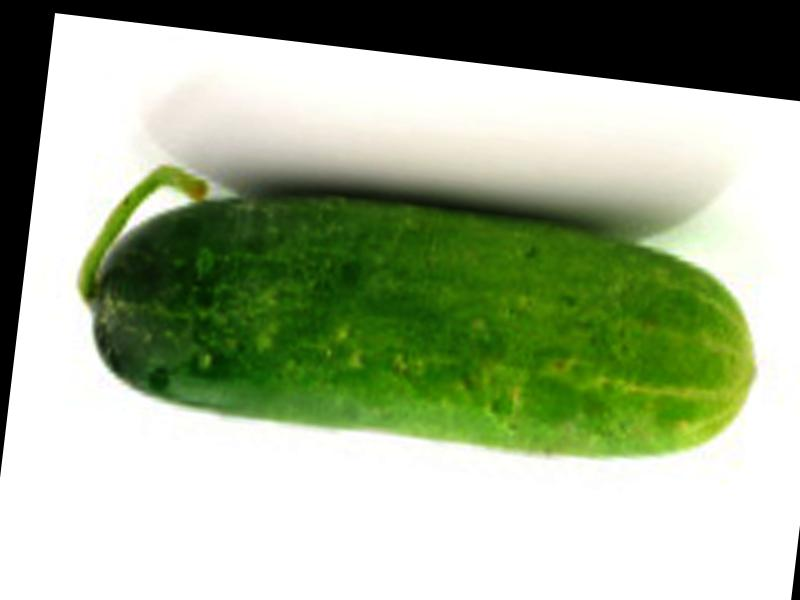Cucumber: (70, 158, 777, 478)
